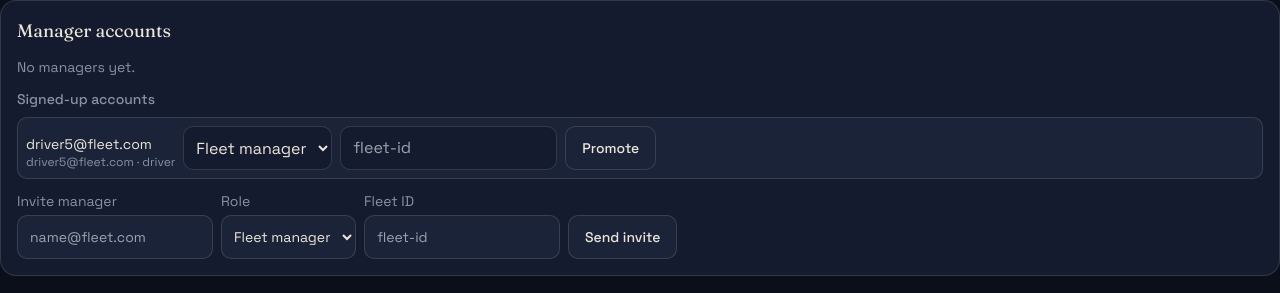
Test case: ManagerList (real mode — Supabase env vars configured) › promotes a candidate to fleet_manager for an admin caller after entering a fleet ID
Type "fleet-7" into the field named "Fleet ID for driver5@fleet.com" at (449, 148), box [340,126,557,170]
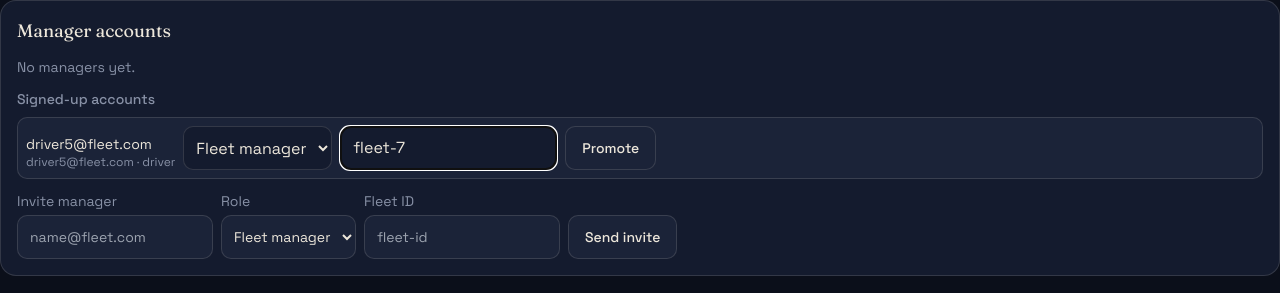
Click the button "Promote" at (611, 148), box [565,126,656,170]
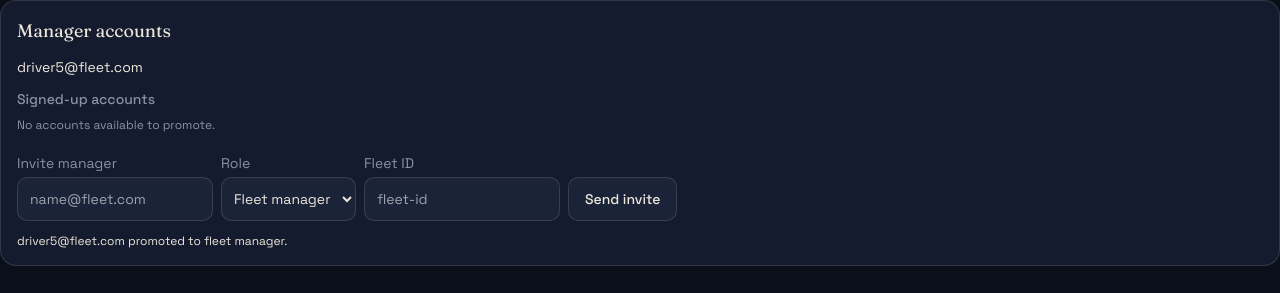
Now the text "driver5@fleet.com promoted to fleet manager." is shown, box [17,233,287,249]
